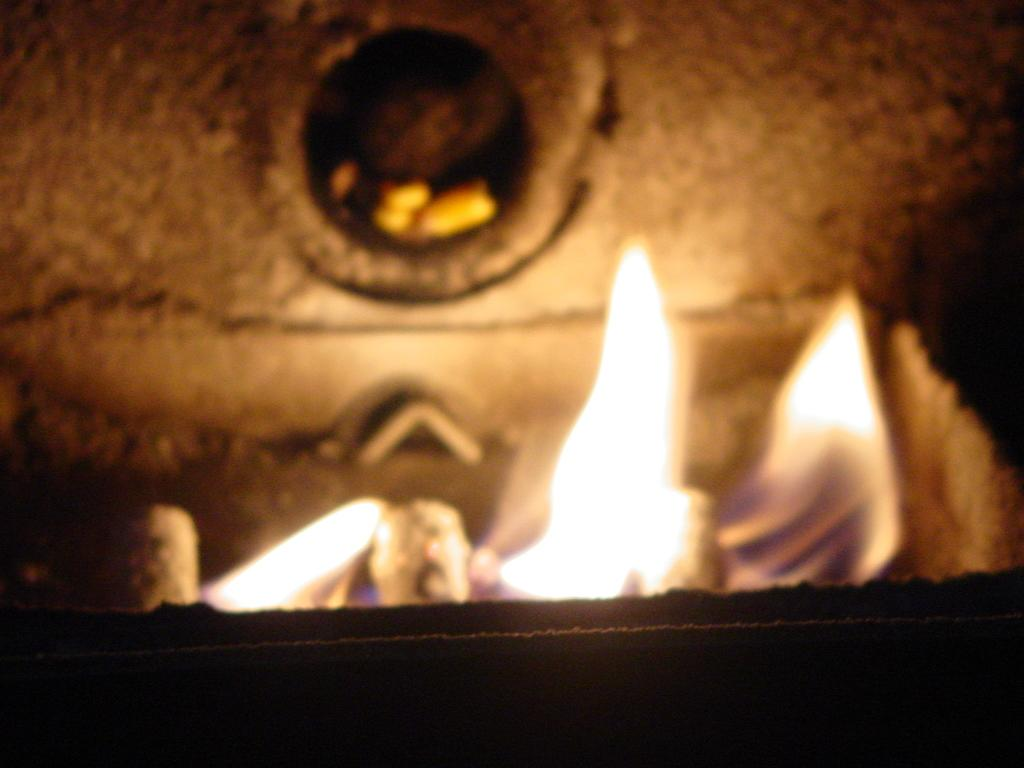Fire: (120, 238, 1022, 606)
